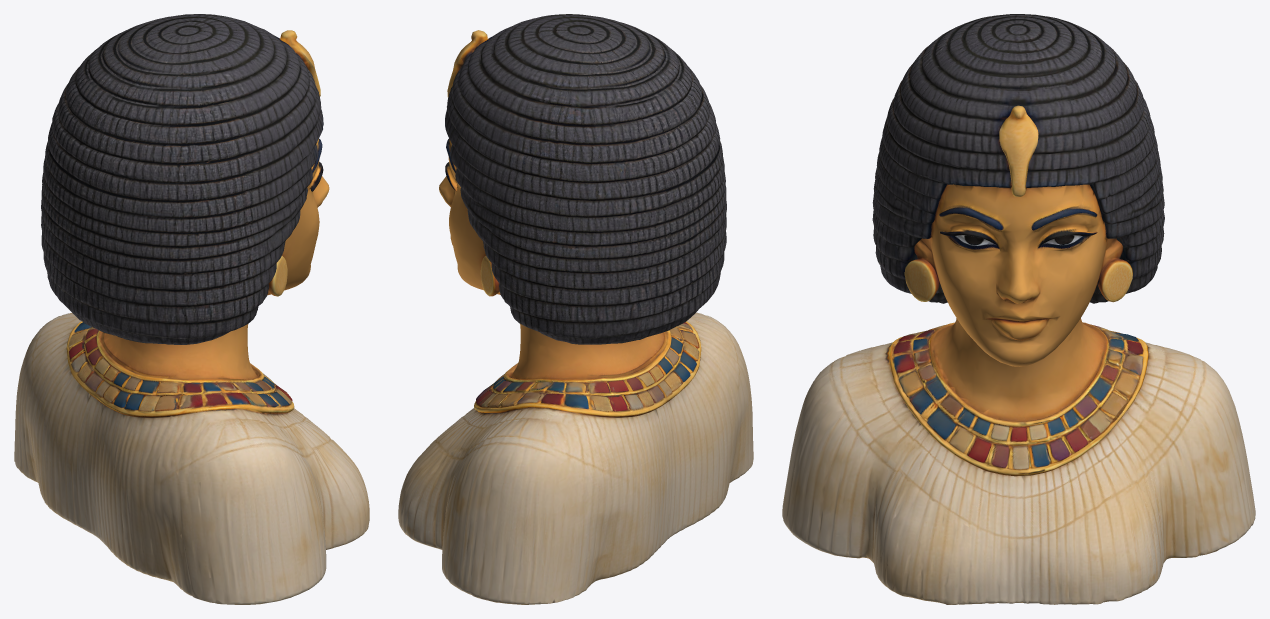
File: hyp-3.glb
3 renders of one model, left to right at view 1: azimuth 30°, elevation 25°; view 2: azimuth 150°, elevation 25°; view 3: azimuth 270°, elevation 25°, orthographic. The views are drawn at different scales.
Parts seen in each view (by area): view 1: tripo_node_27f96dcf-3e35-466f-8b45-1120b38a7760; view 2: tripo_node_27f96dcf-3e35-466f-8b45-1120b38a7760; view 3: tripo_node_27f96dcf-3e35-466f-8b45-1120b38a7760.
Part boxes in pixels (<box>): tripo_node_27f96dcf-3e35-466f-8b45-1120b38a7760: <box>14,14,369,604</box>; tripo_node_27f96dcf-3e35-466f-8b45-1120b38a7760: <box>398,14,753,604</box>; tripo_node_27f96dcf-3e35-466f-8b45-1120b38a7760: <box>782,14,1255,604</box>.
Bounding box in the file's own units: 0.5734 × 1 × 0.849.
1 material, 1 textured.
